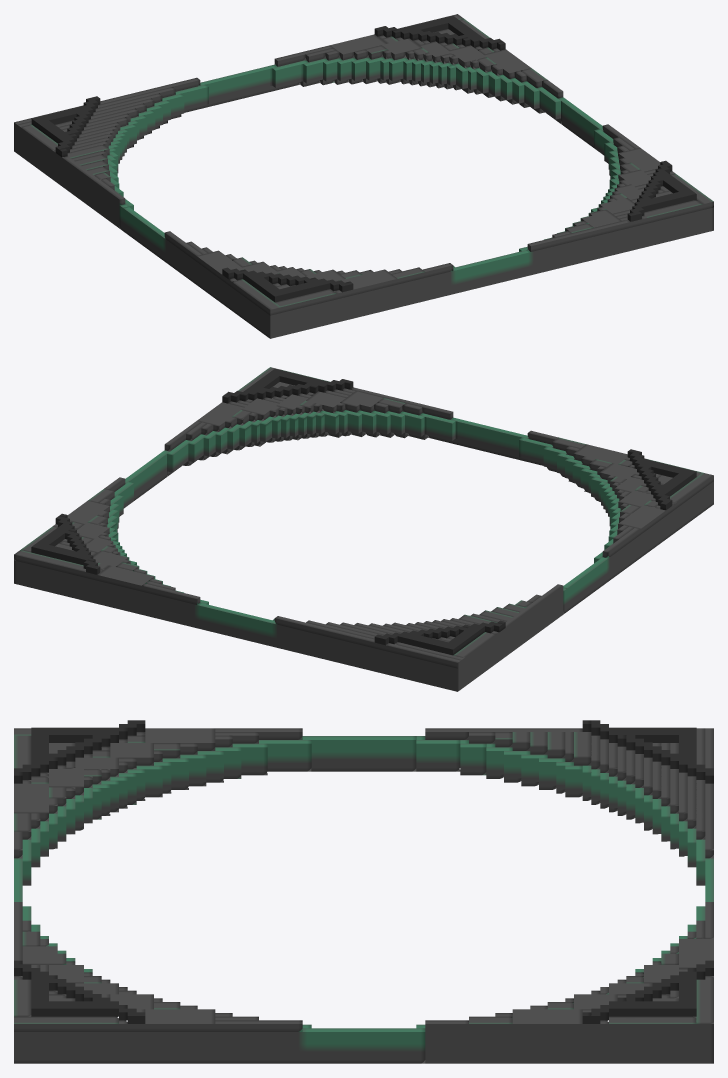
Rendered from plataforma portal.obj.
3 renders of one model, top to bottom at view 1: azimuth 30°, elevation 25°; view 2: azimuth 150°, elevation 25°; view 3: azimuth 270°, elevation 25°, orthographic. The views are drawn at different scales.
Parts seen in each view (by area): view 1: Model; view 2: Model; view 3: Model.
Boxes of the visible parts, x1,y1,x2,y2 form: Model: [14, 14, 713, 338]; Model: [14, 367, 713, 691]; Model: [14, 720, 713, 1063].
Bounding box in the file's own units: 32 × 2.4 × 32.
Materials: 1 (1 with a texture image).
